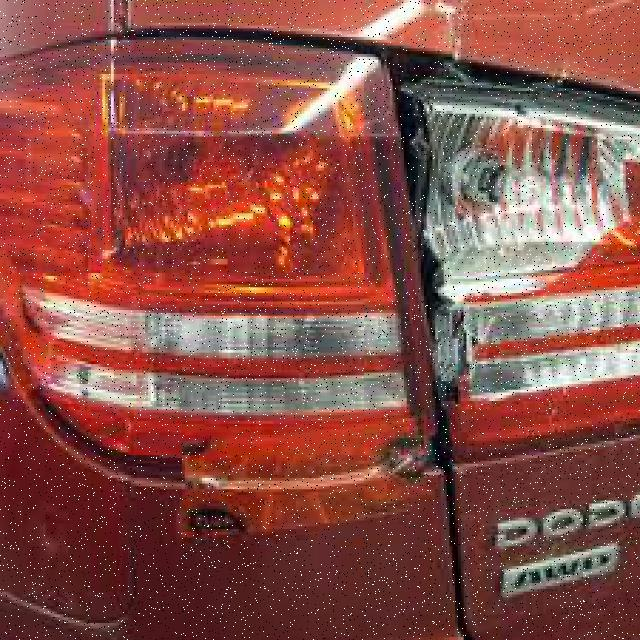Taillight-Damage: (0, 20, 637, 506)
